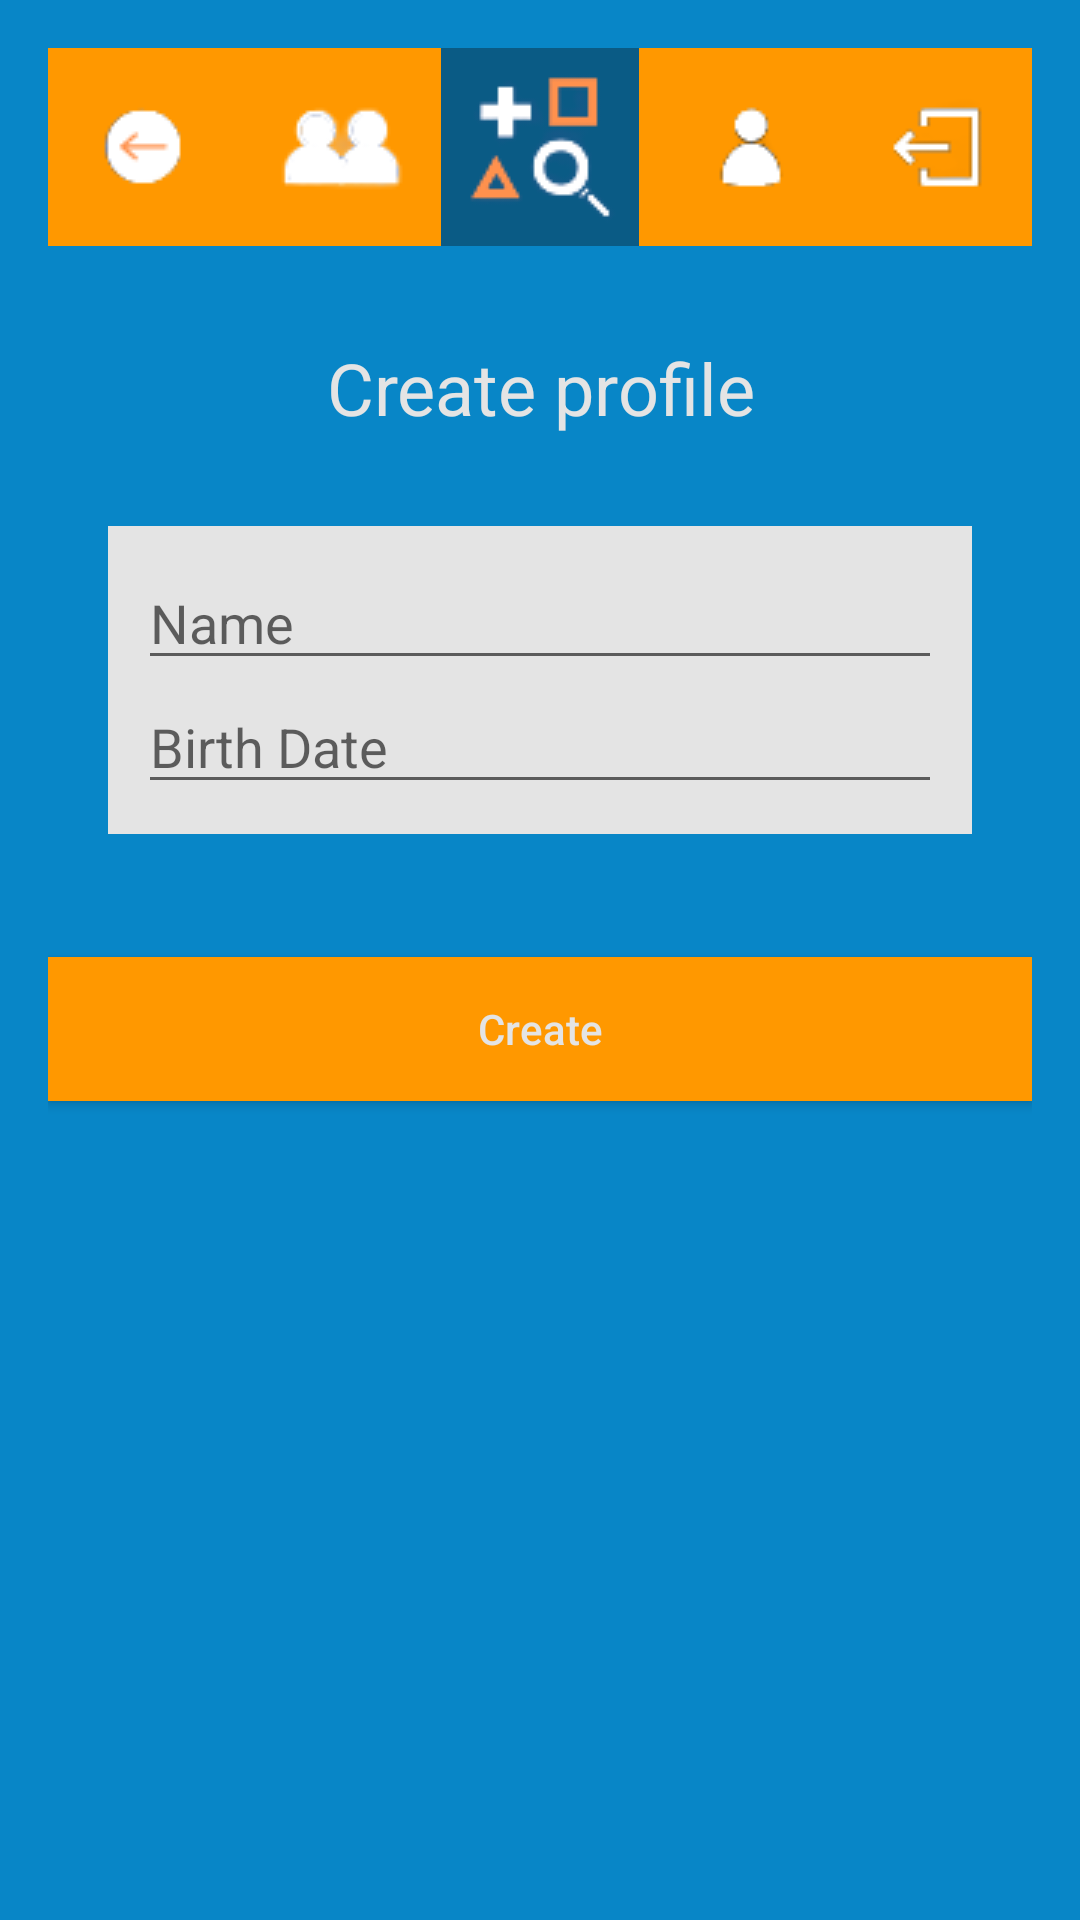

Named icons in this screenshot (1080*1920) and their centers, (x=x, y=y):
button profile description: (x=738, y=147)
profiles button: (x=342, y=147)
